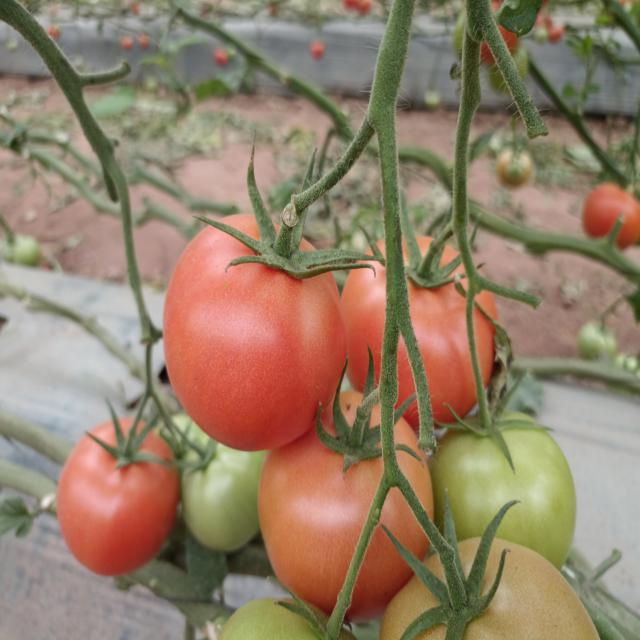Ripe Tomato: (164, 215, 348, 449), (254, 395, 431, 621), (335, 237, 498, 425), (60, 420, 177, 575)
Unripe Tomato: (424, 412, 576, 581), (378, 541, 604, 640), (181, 425, 273, 555)
